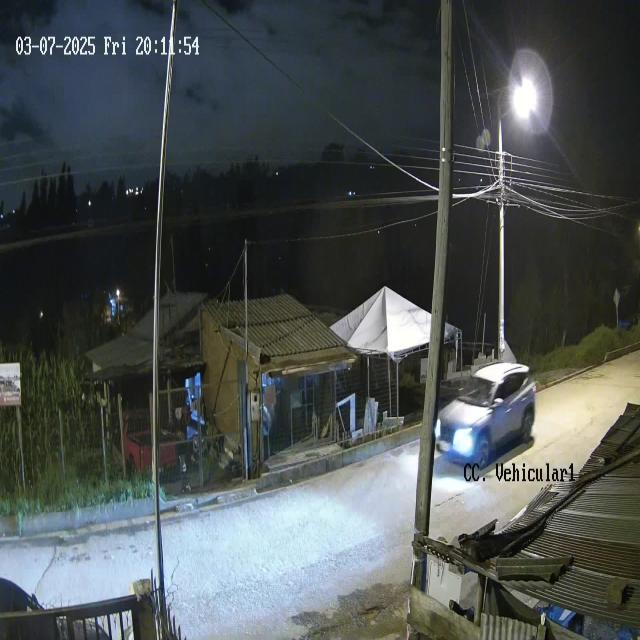SUV: (435, 360, 537, 468)
